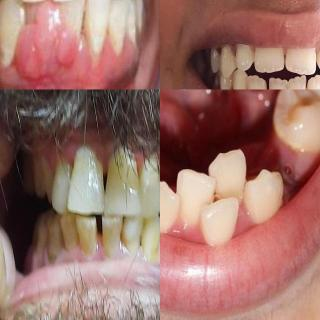Gum Swelling: (16, 1, 77, 77), (73, 33, 135, 85)
maligned: (238, 163, 288, 220), (168, 163, 214, 223), (196, 191, 241, 245), (212, 145, 250, 198), (160, 171, 183, 228), (285, 41, 316, 78), (255, 43, 285, 79), (231, 43, 256, 71), (246, 72, 267, 90), (286, 74, 307, 90), (269, 74, 287, 90), (305, 74, 320, 89), (314, 42, 320, 77)
stains: (0, 39, 20, 70), (261, 84, 270, 90), (302, 83, 310, 89)
